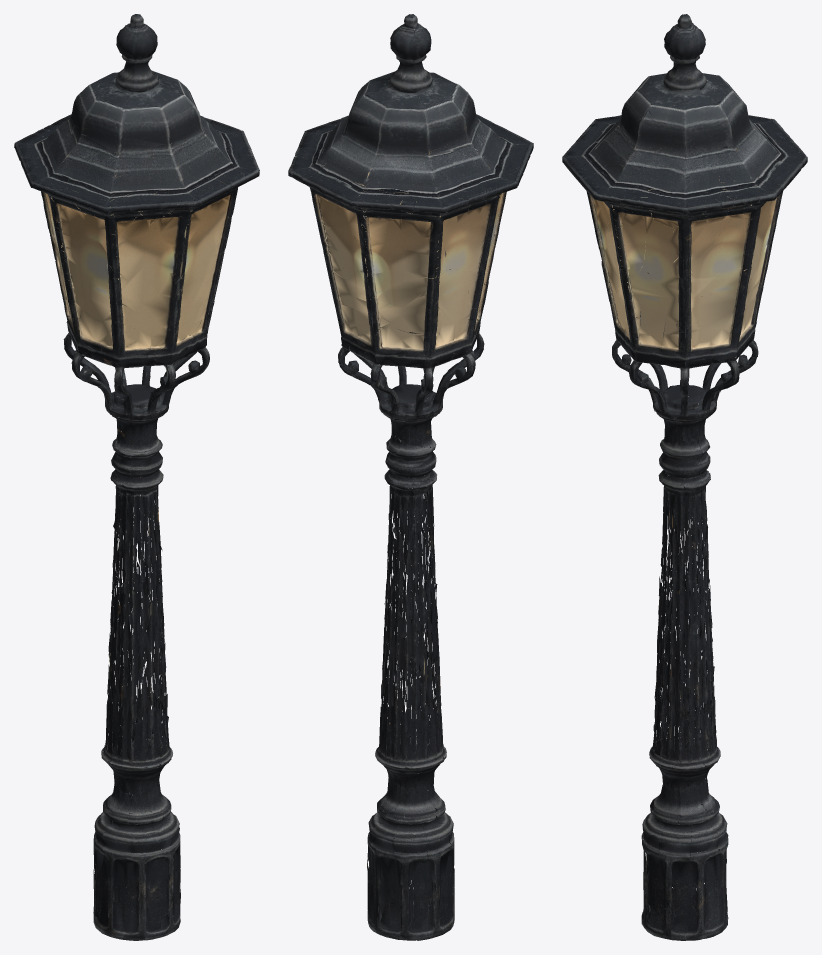
File: lampione_ghisa_lod1.glb
The picture shows the model from 3 angles, left to right: view 1: azimuth 30°, elevation 25°; view 2: azimuth 150°, elevation 25°; view 3: azimuth 270°, elevation 25°; orthographic projection.
Visible parts, largest first — view 1: Mesh_0; view 2: Mesh_0; view 3: Mesh_0.
Boxes of the visible parts, bbox=[...] form: Mesh_0: bbox=[14, 14, 259, 940]; Mesh_0: bbox=[288, 14, 533, 940]; Mesh_0: bbox=[562, 14, 807, 940].
Bounding box in the file's own units: 0.7344 × 3 × 0.7347.
1 material, 1 textured.
